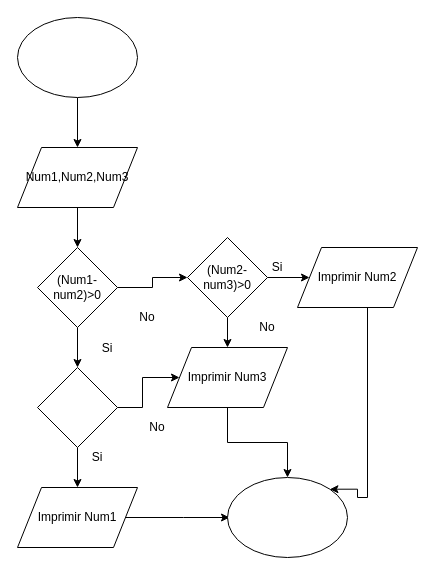
This 435x575 diagram has some shape labels left out. Here are the shapes that lost their labels. From the top down, the box of each, then its label:
(16, 16, 138, 98): Inicio
(36, 366, 118, 448): (Num1-Num3)>0
(226, 476, 348, 558): Fin
